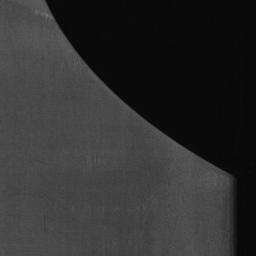Crescent gap: (47, 0, 233, 176)
